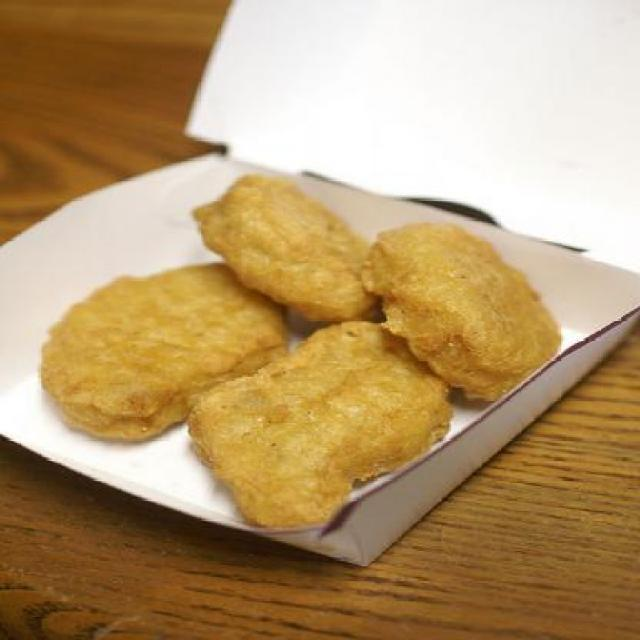Chicken nugget: (48, 163, 587, 545)
